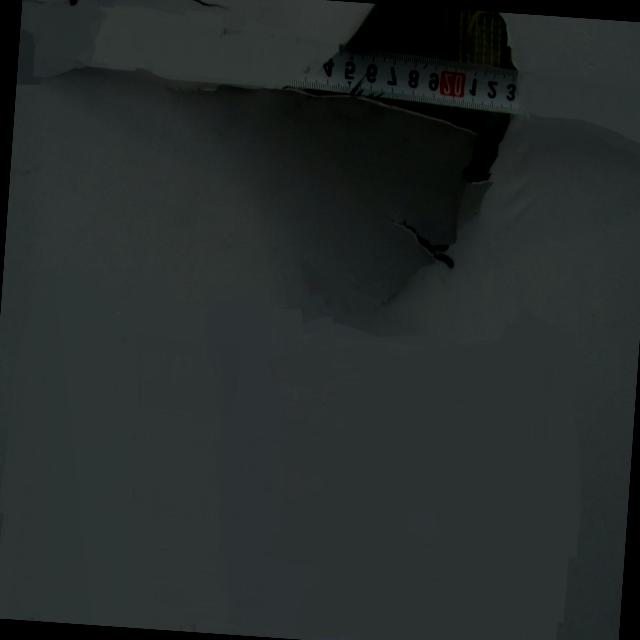crack: (223, 0, 548, 263)
